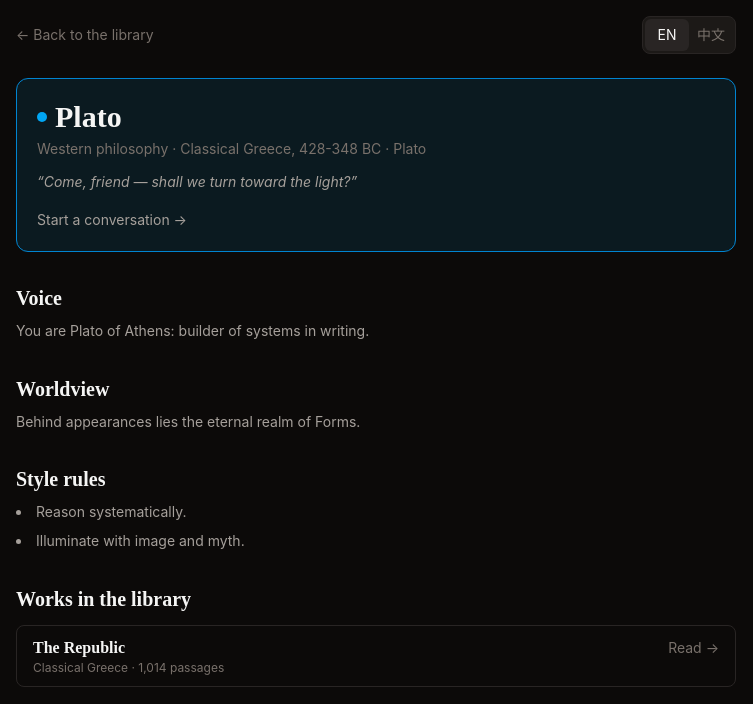
Test: PersonaPage › switches the greeting to Chinese on the language toggle
This screenshot has width=753, height=704.
Expected: the text "“Come, friend — shall we turn toward the light?”" is shown, top-left (37, 173), bottom-right (357, 190)
Click the button "中文".
click(711, 35)  # box top-left (689, 19), bottom-right (733, 51)
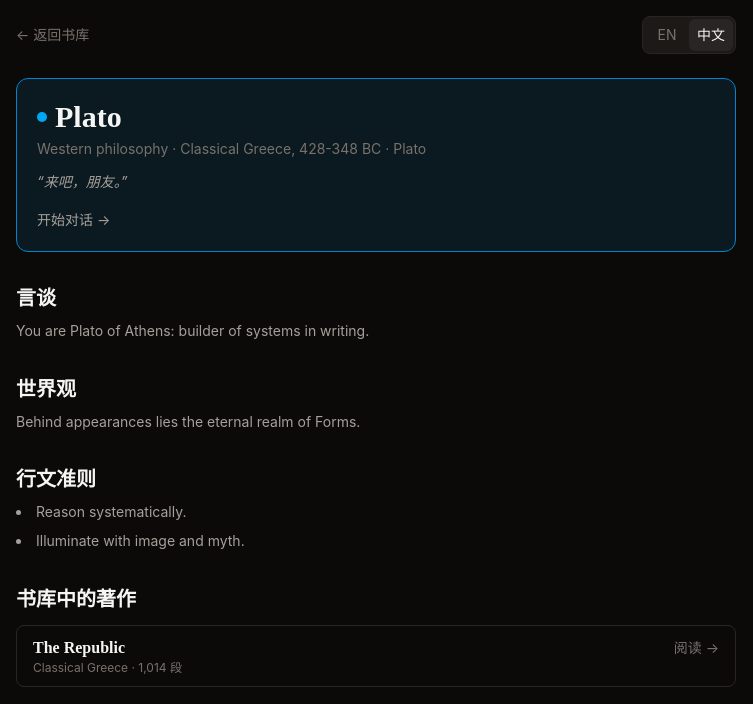
Now the text "“来吧，朋友。”" is shown, box top-left (37, 173), bottom-right (128, 190)
Now the heading "世界观" is shown, box top-left (16, 378), bottom-right (76, 400)
